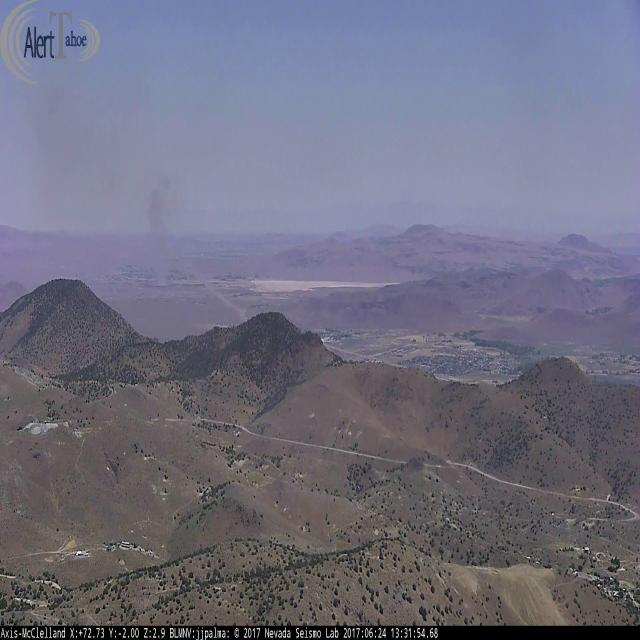smoke: (145, 164, 176, 290)
